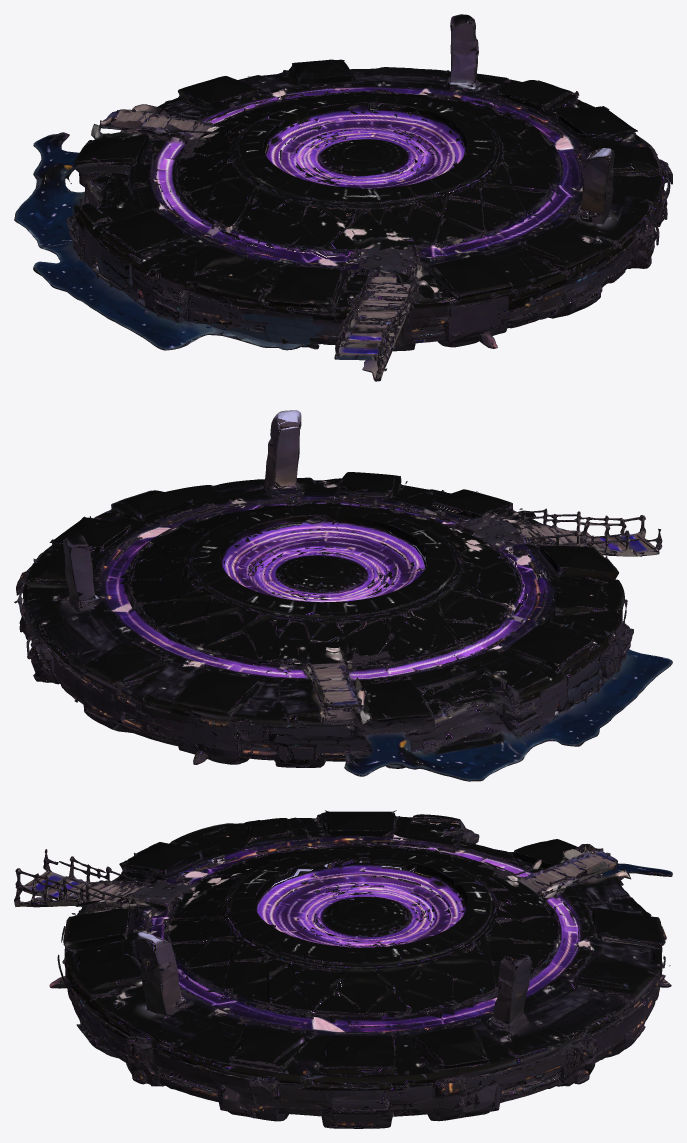
File: boss-arena-web.glb
The picture shows the model from 3 angles, top to bottom: view 1: azimuth 30°, elevation 25°; view 2: azimuth 150°, elevation 25°; view 3: azimuth 270°, elevation 25°; orthographic projection. The views are drawn at different scales.
Visible parts, largest first — view 1: world; view 2: world; view 3: world.
Part boxes in pixels (x1,y1,x2,y2): world: [14, 14, 672, 381]; world: [14, 410, 672, 781]; world: [14, 810, 672, 1128].
Bounding box in the file's own units: 1.99 × 0.4745 × 1.94.
Materials: 1 (1 with a texture image).
